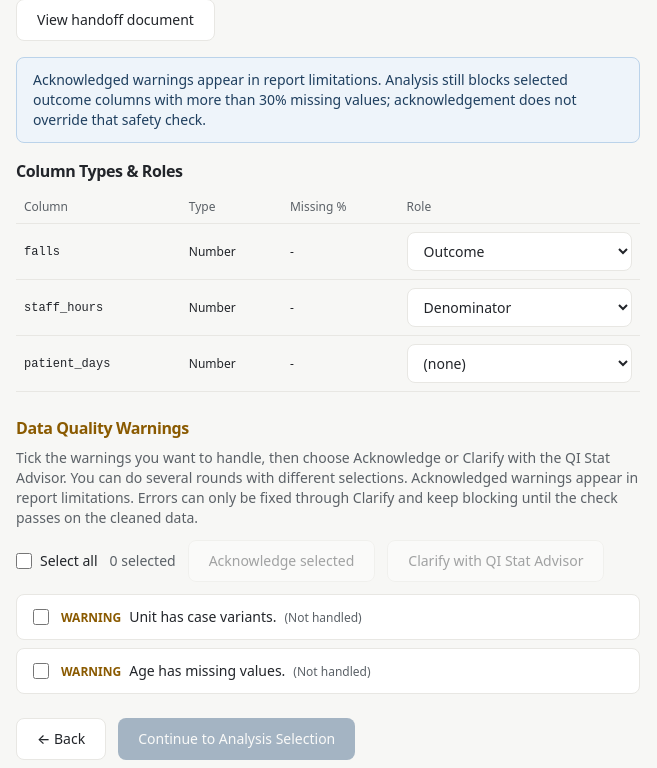
DataReview › shows a role proposal as a role change with the conflict note and no rows-affected wording
The image size is (657, 768).
(page scrolled)
Click the checkbox labelled "Unit has case variants" at (41, 617), box [33,609,49,625]
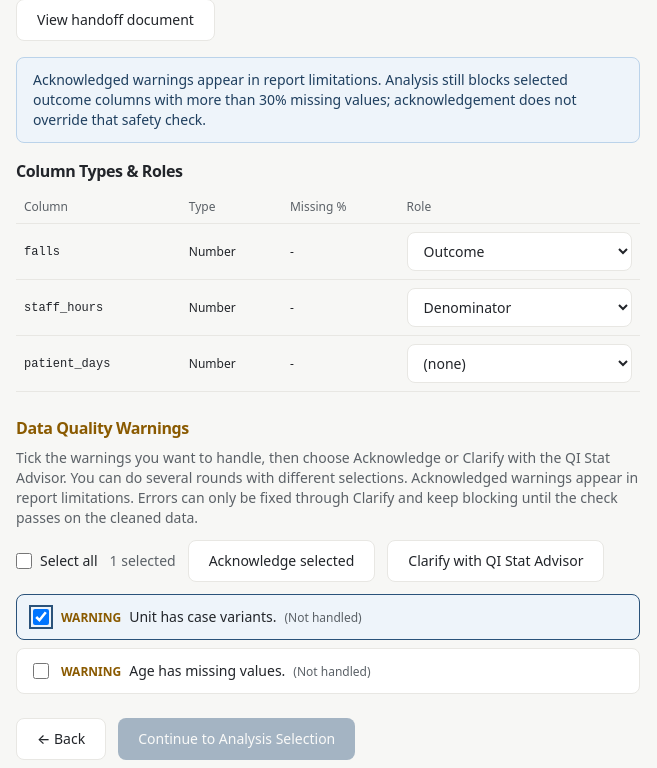
Click the button "Clarify with QI Stat Advisor" at (496, 561), box [387,540,604,582]
(page scrolled)
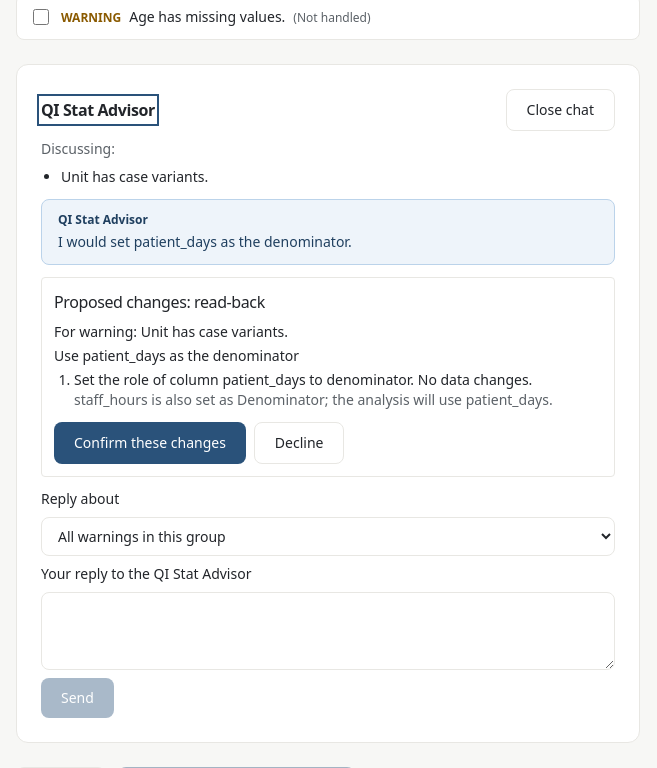
Expected: the list item "Set the role of column patient_days to denominator. No data changes." is shown, [74,370,602,410]
Expected: the text "staff_hours is also set as Denominator; the analysis will use patient_days." is shown, [74,390,602,410]
